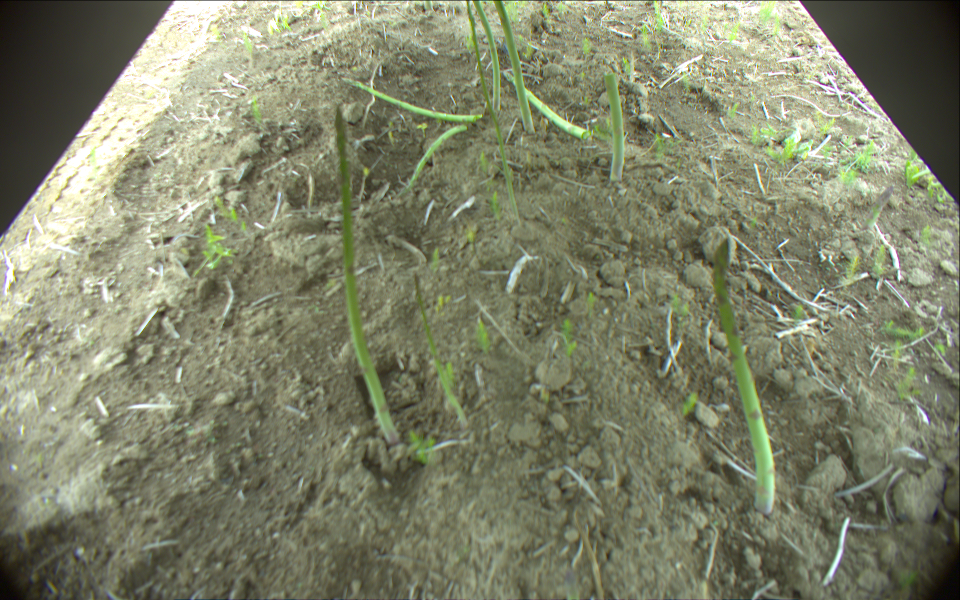aspa: (333, 105, 401, 446), (712, 239, 776, 512), (466, 1, 523, 220), (413, 274, 470, 427), (342, 76, 484, 122), (502, 69, 591, 141), (492, 1, 536, 135), (404, 122, 467, 193), (473, 1, 502, 111), (605, 74, 626, 182), (861, 184, 894, 233)
